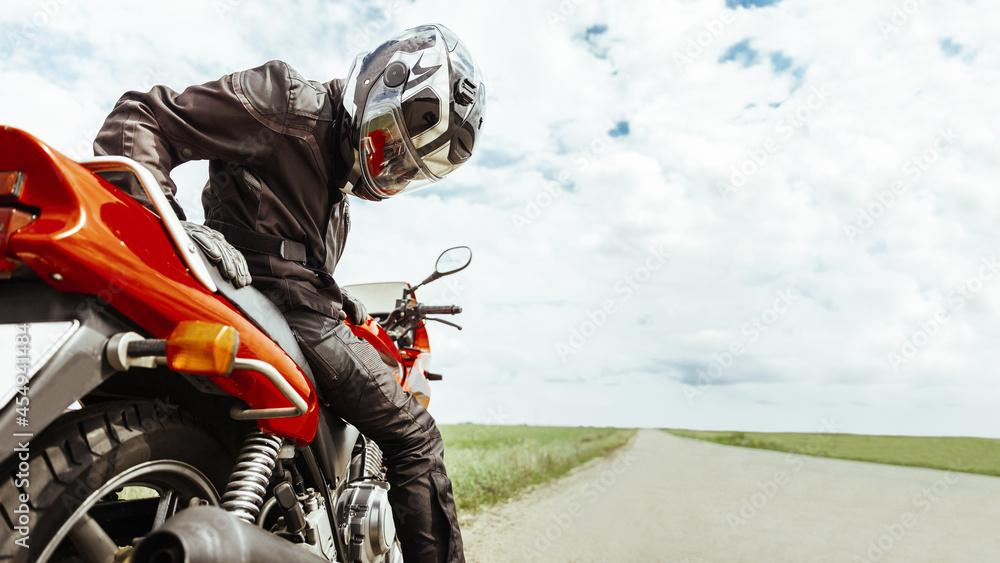helmet: (331, 22, 488, 203)
